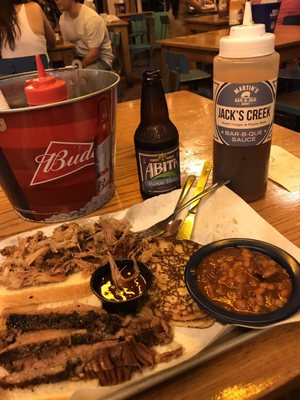pizza: (0, 65, 121, 223)
sushi: (184, 238, 300, 329)
